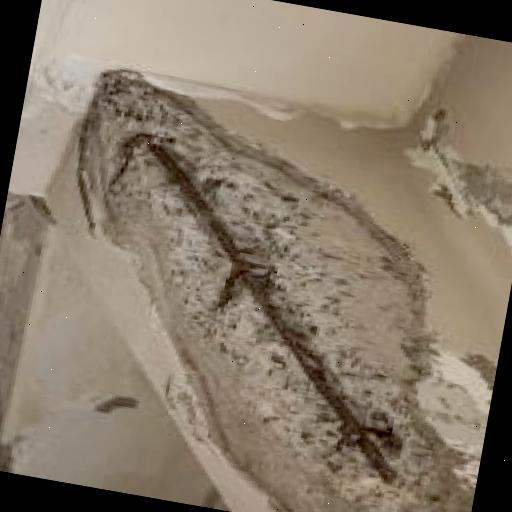spalling: (76, 69, 475, 512)
